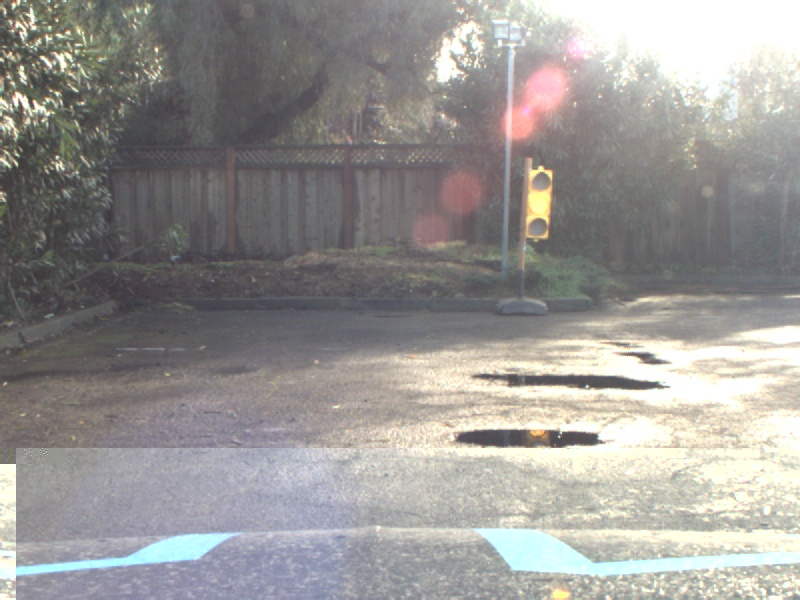Yellow: (527, 168, 552, 239)
